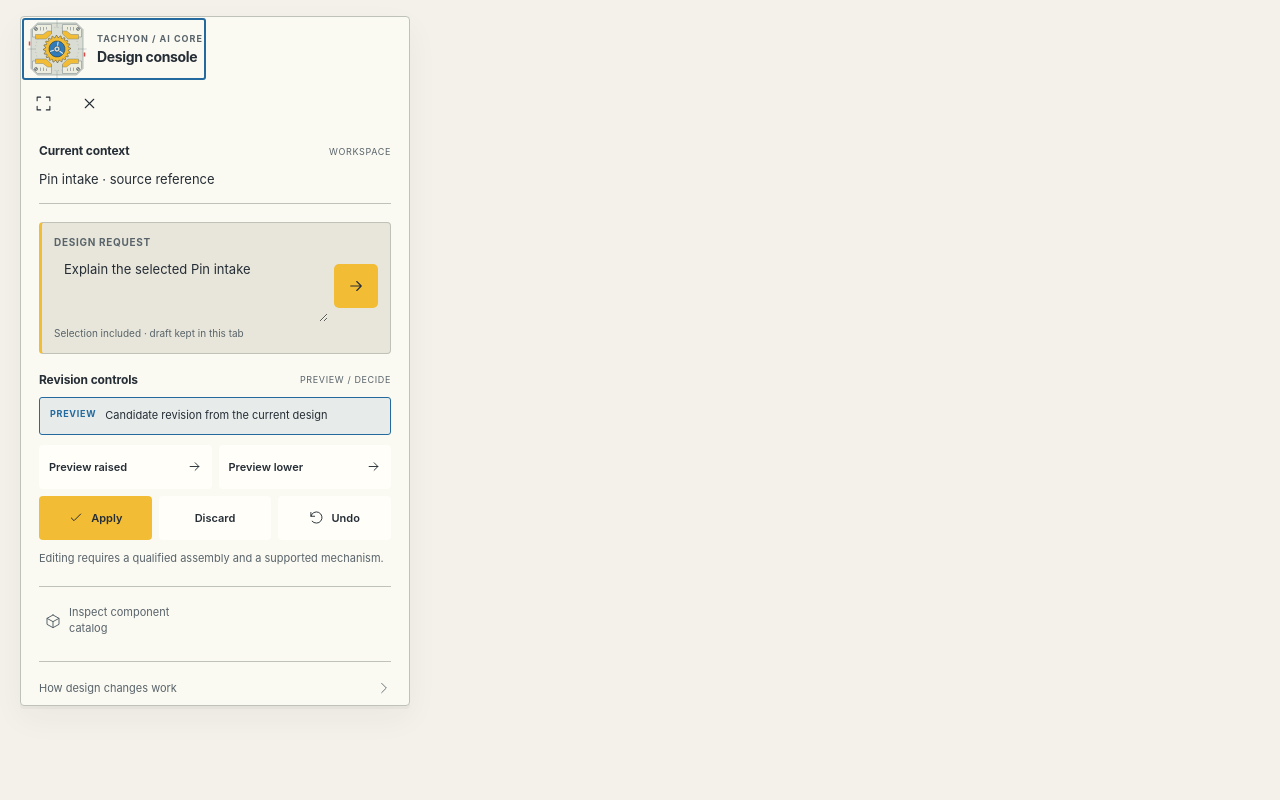
Scenario: delegates Undo without inventing a revision result
Check: the text "Candidate revision from the current design" is shown, box [105,408,328,422]
What coordinates should you click on to do the following:
click the button "Undo"
I would click on:
 (335, 518)
Its box is [278,496,391,540].
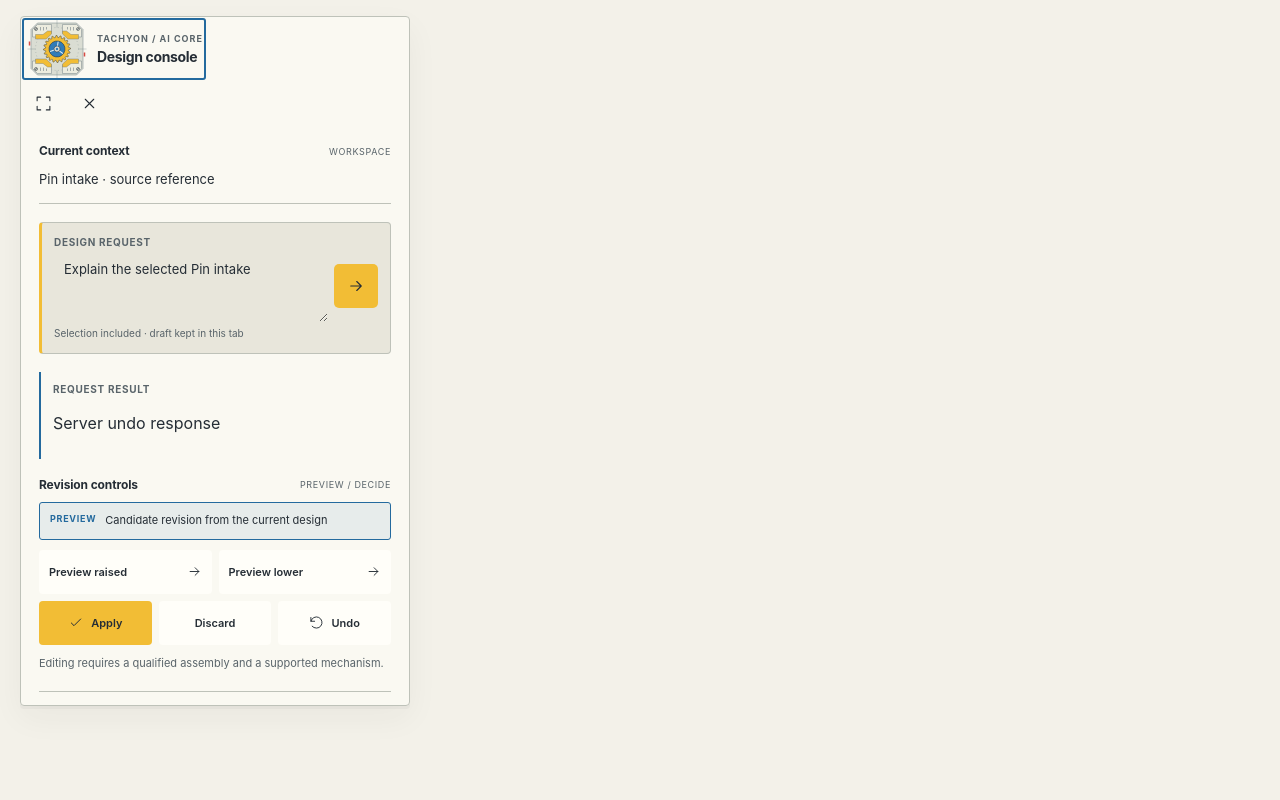
Check: the message reads "Request result Server undo response", box [53,413,220,433]
